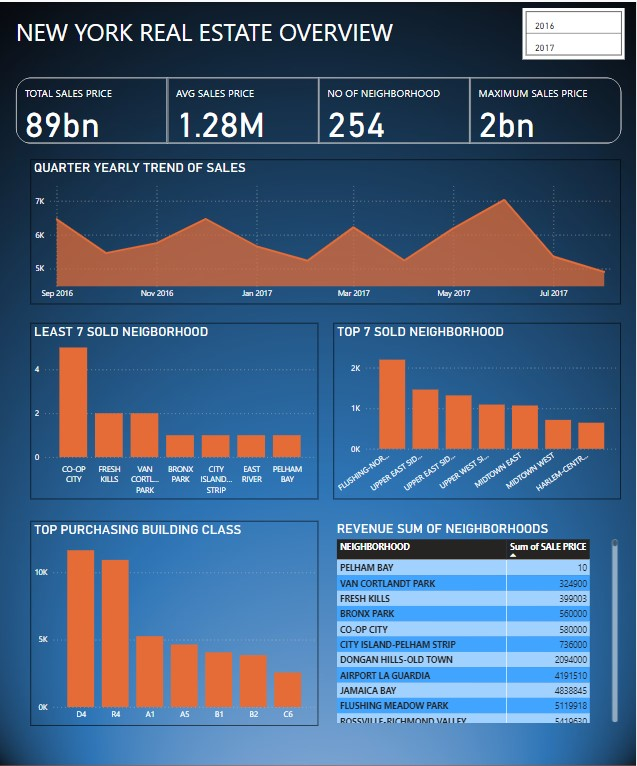

This screenshot's page, from the dashboard's own definition file:
{"tool":"powerbi","page":{"name":"Page 1","canvas":[1000,1200],"ordinal":0},"visuals":[{"type":"clusteredColumnChart","title":"TOP 7 SOLD NEIGHBORHOOD","fields":{"Category":["Table2.NEIGHBORHOOD"],"Y":["CountNonNull(Table2.SALE PRICE)"]},"box":[523.6,502.8,450,276.1],"z":0},{"type":"clusteredColumnChart","title":"LEAST 7 SOLD NEIGBORHOOD","fields":{"Category":["Table2.NEIGHBORHOOD"],"Y":["CountNonNull(Table2.SALE PRICE)"]},"box":[49.5,502.8,450.7,276.1],"z":1000},{"type":"columnChart","title":"TOP PURCHASING BUILDING CLASS","fields":{"Y":["CountNonNull(Table2.SALE PRICE)"],"Category":["Table2.BUILDING CLASS AT TIME OF SALE"]},"box":[49.5,812.8,450.7,320.4],"z":2000},{"type":"pivotTable","title":"REVENUE SUM OF NEIGHBORHOODS","fields":{"Values":["Sum(Table2.SALE PRICE)"],"Rows":["Table2.NEIGHBORHOOD"]},"box":[523.6,812.8,450.7,320.4],"z":3000},{"type":"cardVisual","fields":{"Data":["Table2.Total Sales","Table2.AVG_Sale_Price","Count(Table2.NEIGHBORHOOD)","Table2.MAX_Sale_Price"]},"box":[20.6,113.2,960.3,114.7],"z":4000},{"type":"advancedSlicerVisual","fields":{"Values":["Table2.SALE YEAR"]},"box":[820.6,8.8,160.3,80.9],"z":5000},{"type":"textbox","box":[20,17.5,755,65],"z":6000},{"type":"areaChart","title":"QUARTER YEARLY TREND OF SALES","fields":{"Y":["CountNonNull(Table2.SALE PRICE)"],"Category":["Table2.SALE DATE.Variation.Date Hierarchy.Year","Table2.SALE DATE.Variation.Date Hierarchy.Quarter","Table2.SALE DATE.Variation.Date Hierarchy.Month"]},"box":[49.5,247.5,924.8,226.6],"z":7000}]}

Visuals, with their boxes in screenshot pixels (x1, y1, x2, y2), scaled from the page's 1000x1200 canvas onto the 637x766 screenshot:
"TOP 7 SOLD NEIGHBORHOOD" clusteredColumnChart: <box>334,321,620,497</box>
"LEAST 7 SOLD NEIGBORHOOD" clusteredColumnChart: <box>32,321,319,497</box>
"TOP PURCHASING BUILDING CLASS" columnChart: <box>32,519,319,723</box>
"REVENUE SUM OF NEIGHBORHOODS" pivotTable: <box>334,519,621,723</box>
cardVisual - Table2.Total Sales x Table2.AVG_Sale_Price: <box>13,72,625,145</box>
advancedSlicerVisual - Table2.SALE YEAR: <box>523,6,625,57</box>
textbox: <box>13,11,494,53</box>
"QUARTER YEARLY TREND OF SALES" areaChart: <box>32,158,621,303</box>
